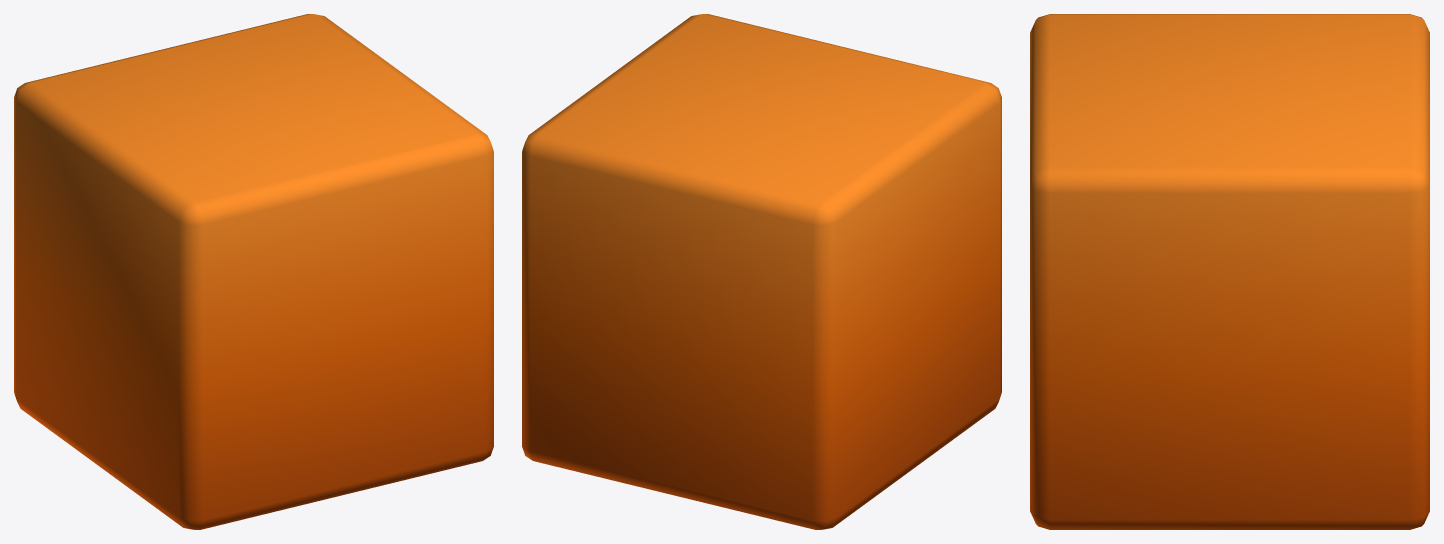
Rendered from 3D_Tile_Ground_03.glb.
The picture shows the model from 3 angles, left to right: view 1: azimuth 30°, elevation 25°; view 2: azimuth 150°, elevation 25°; view 3: azimuth 270°, elevation 25°; orthographic projection. The views are drawn at different scales.
Parts seen in each view (by area): view 1: 3D_Tile_Ground_03; view 2: 3D_Tile_Ground_03; view 3: 3D_Tile_Ground_03.
Part boxes in pixels (<box>): 3D_Tile_Ground_03: <box>14,14,493,529</box>; 3D_Tile_Ground_03: <box>522,14,1001,529</box>; 3D_Tile_Ground_03: <box>1030,14,1429,529</box>.
Bounding box in the file's own units: 2 × 2 × 2.
Materials: 1 (1 with a texture image).
